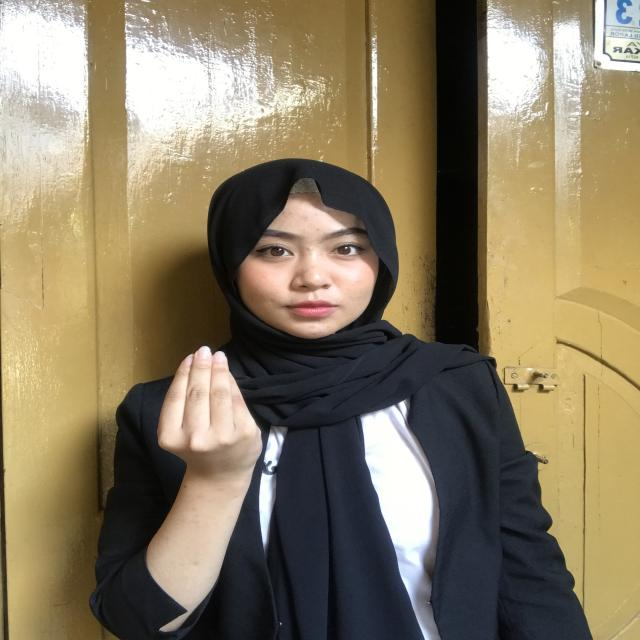kapan: (138, 348, 281, 518)
